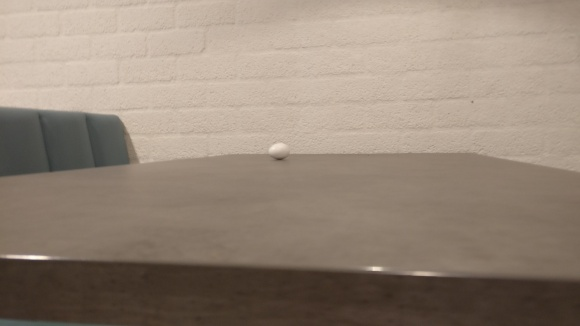egg: (267, 142, 291, 160)
